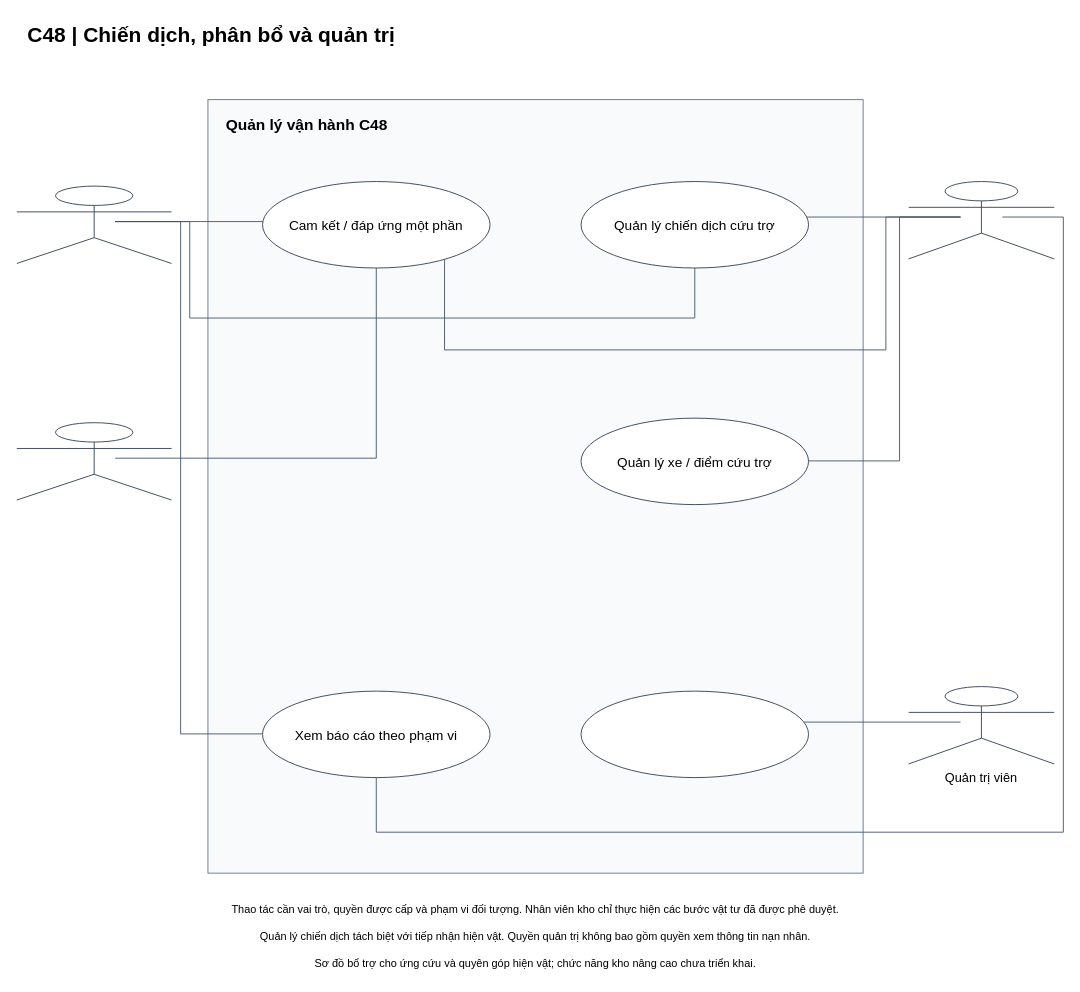
Some shapes in this 1080 by 992 pixel diagram are drawn without their labels. Here are the shapes that lost their labels. From the top down, the centre of each, then its label:
At (x=94, y=224): "Điều phối viên theo phạm vi".
At (x=981, y=220): "Quản lý chiến dịch / vận hành".
At (x=94, y=461): "Nhân viên kho / tiếp nhận".
At (x=694, y=734): "Tài khoản / quyền theo phạm vi".
